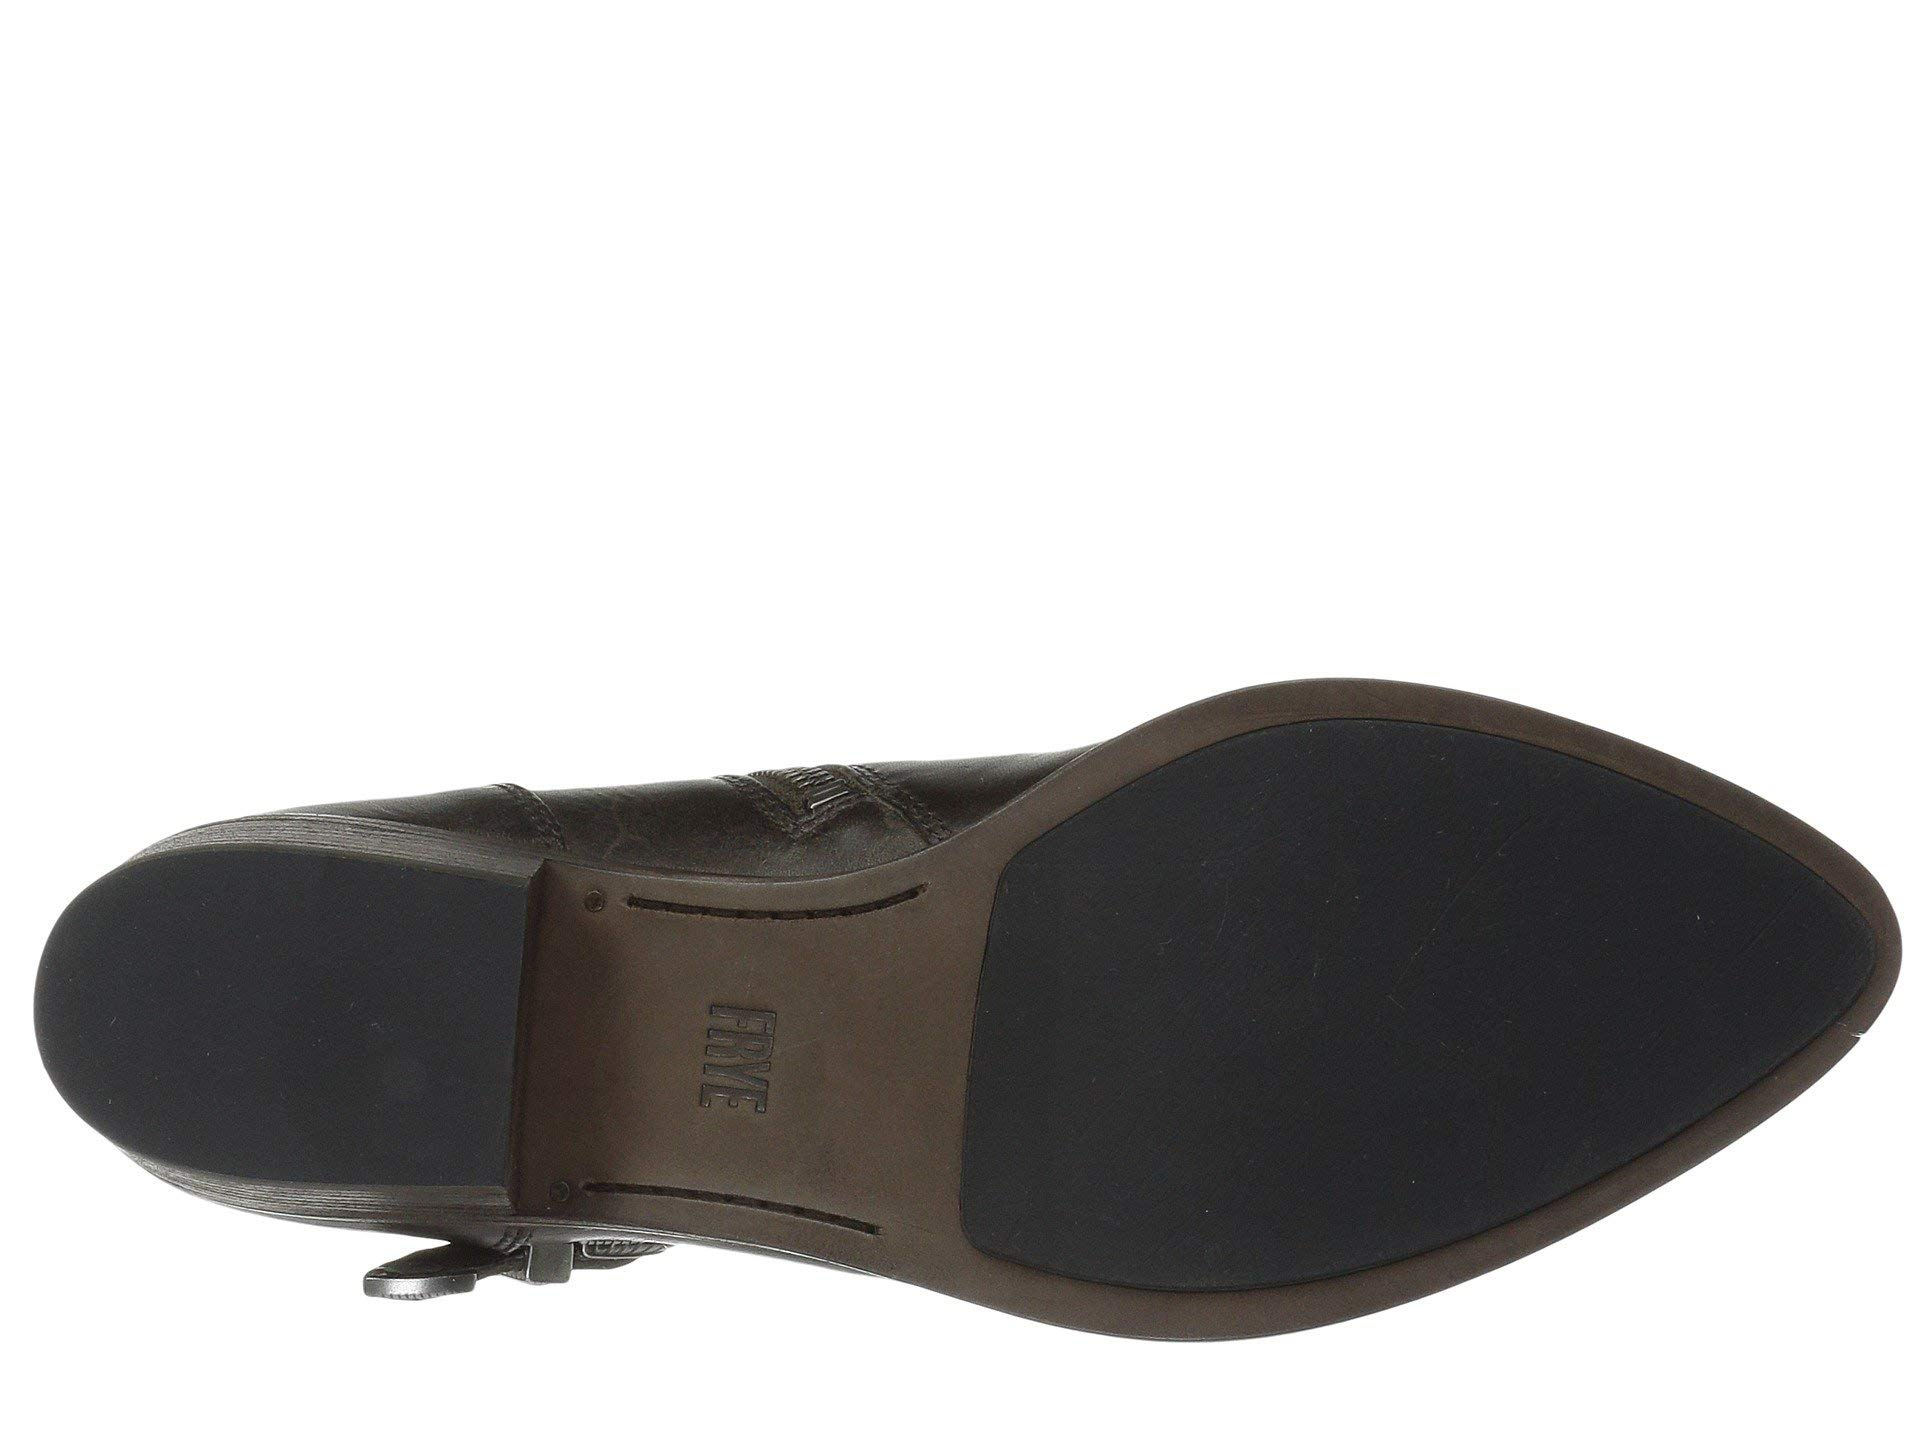circle: (568, 867, 948, 936)
line: (568, 867, 948, 936)
text: (655, 964, 828, 1130)
